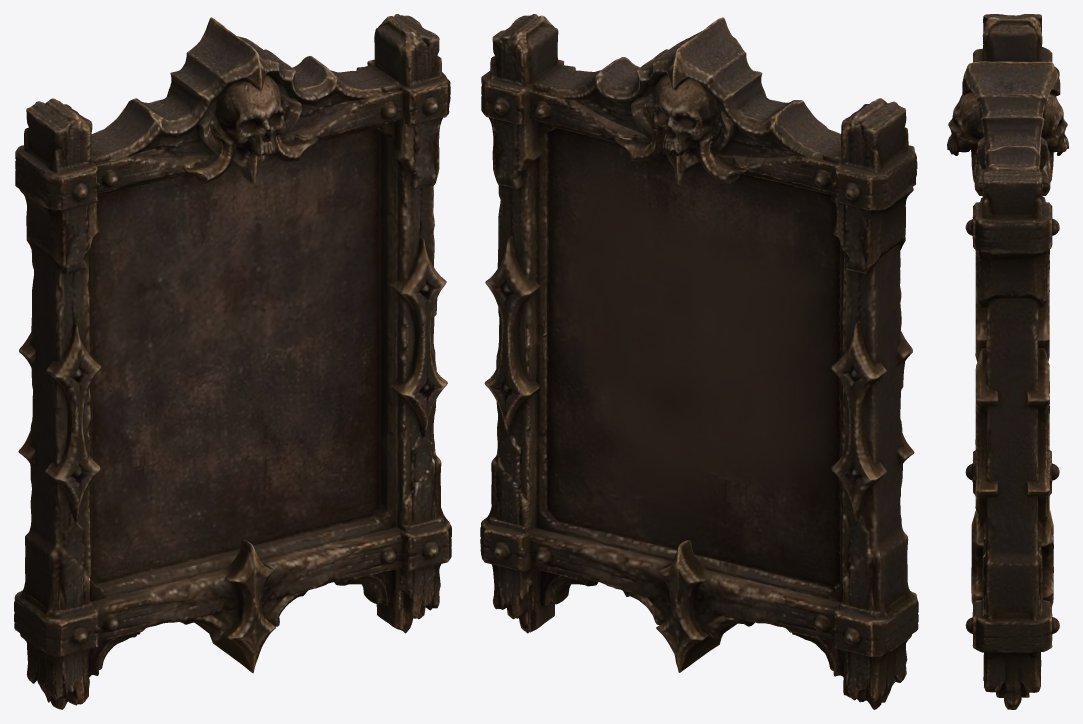
Rendered from symbol_board.glb.
The picture shows the model from 3 angles, left to right: view 1: azimuth 30°, elevation 25°; view 2: azimuth 150°, elevation 25°; view 3: azimuth 270°, elevation 25°; orthographic projection. The views are drawn at different scales.
Visible parts, largest first — view 1: tripo_node_0f5920fd-c6e9-4b0f-8b36-7a6d2f66b912; view 2: tripo_node_0f5920fd-c6e9-4b0f-8b36-7a6d2f66b912; view 3: tripo_node_0f5920fd-c6e9-4b0f-8b36-7a6d2f66b912.
Part boxes in pixels (<box>): tripo_node_0f5920fd-c6e9-4b0f-8b36-7a6d2f66b912: <box>14,14,451,709</box>; tripo_node_0f5920fd-c6e9-4b0f-8b36-7a6d2f66b912: <box>480,14,918,709</box>; tripo_node_0f5920fd-c6e9-4b0f-8b36-7a6d2f66b912: <box>947,14,1068,709</box>.
Bounding box in the file's own units: 0.6653 × 1 × 0.1926.
Materials: 1 (1 with a texture image).
